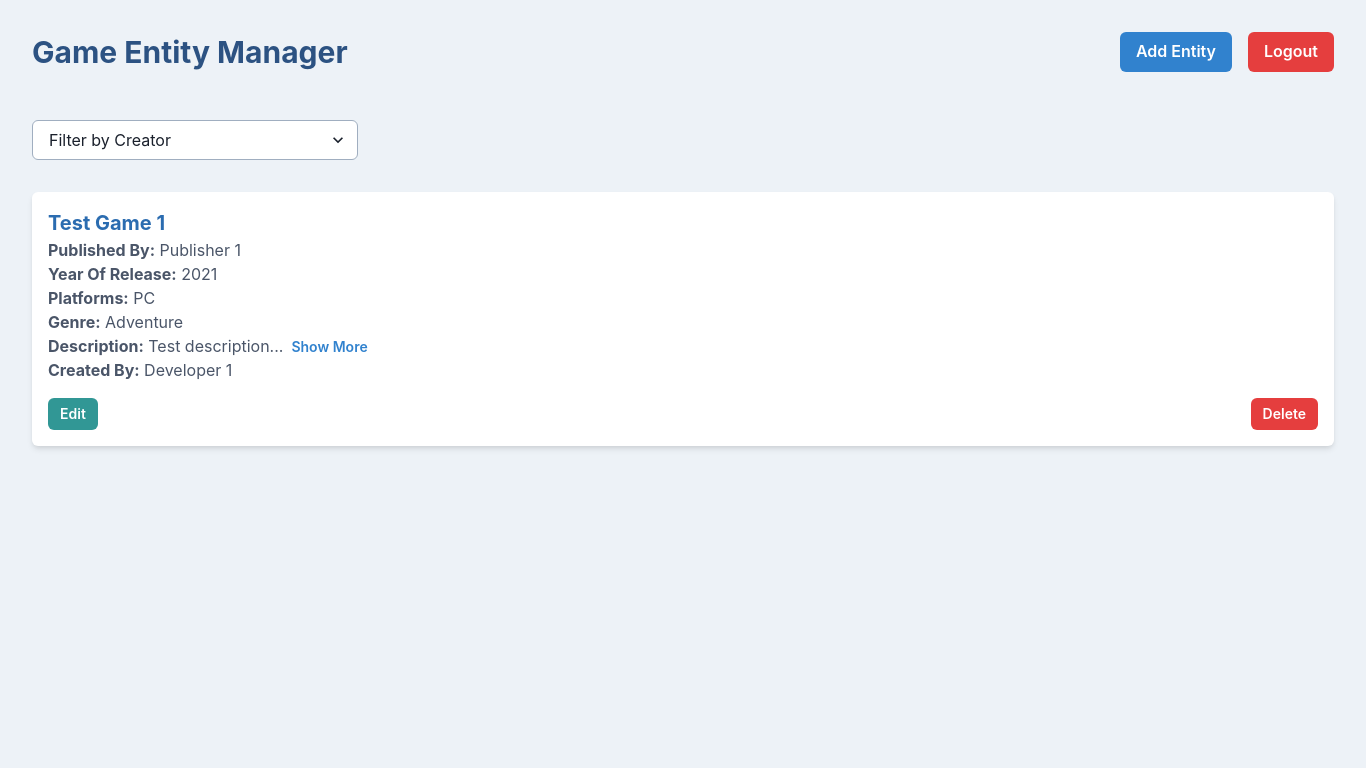
Test case: Entity Component › handles delete functionality
Expected: the text "Test Game 1" is shown, [48,211,165,235]
What coordinates should you click on to do the following:
click the button "Delete"
I would click on:
 (1284, 414)
Its box is [1251,398,1318,430].
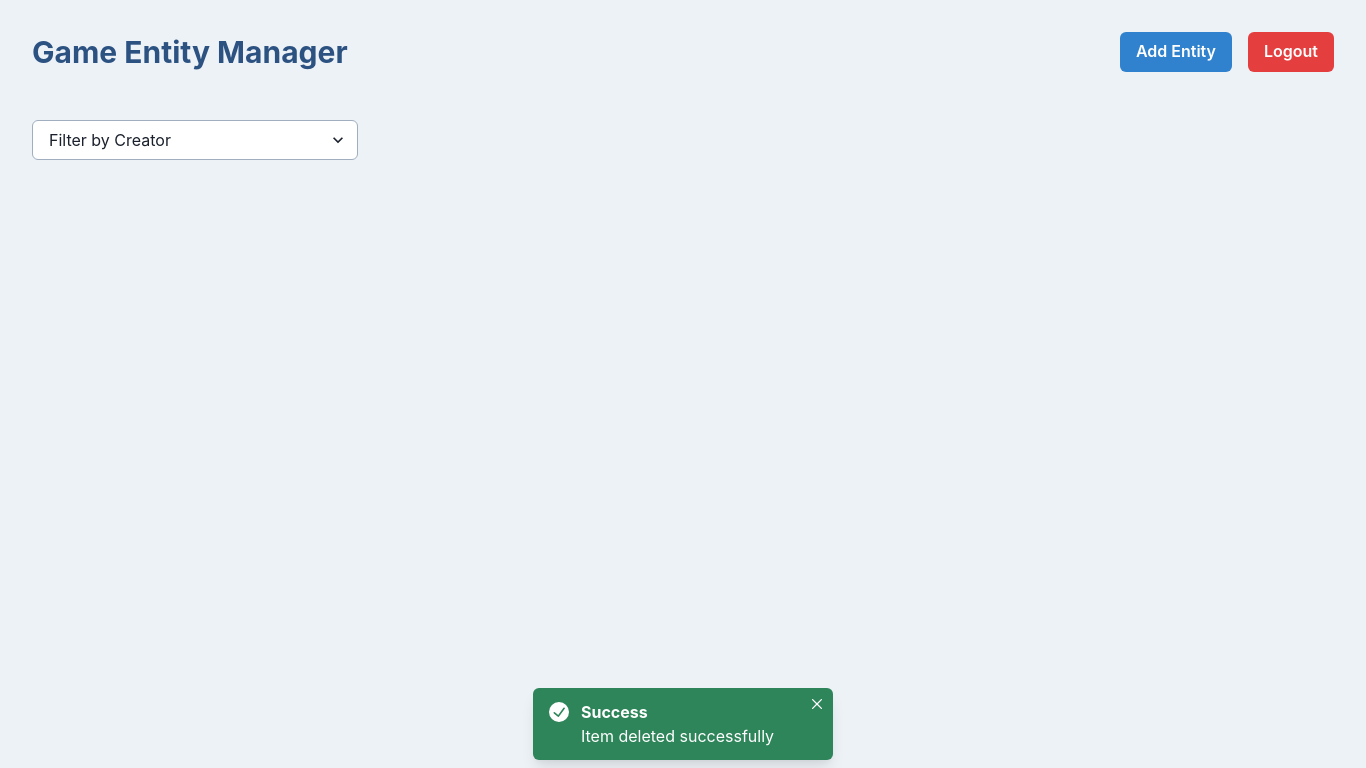
Expected: the text "Test Game 1" is gone
